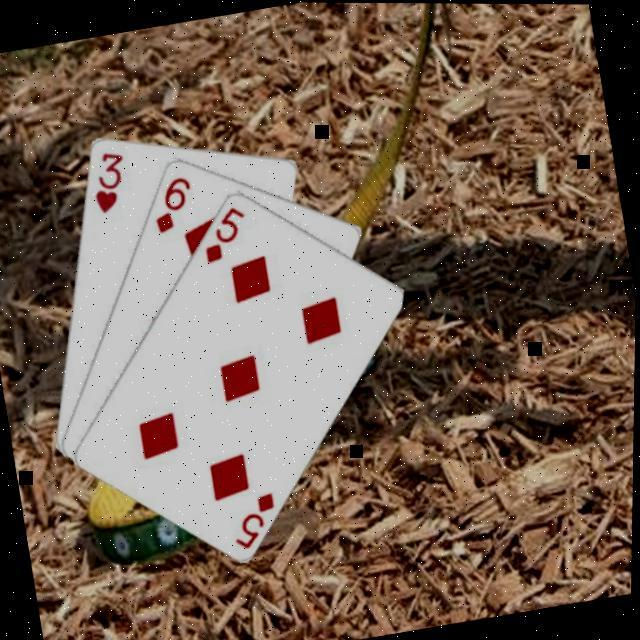3H: (81, 143, 133, 214)
5D: (192, 198, 254, 264), (224, 485, 284, 551)
6D: (142, 168, 200, 235)
